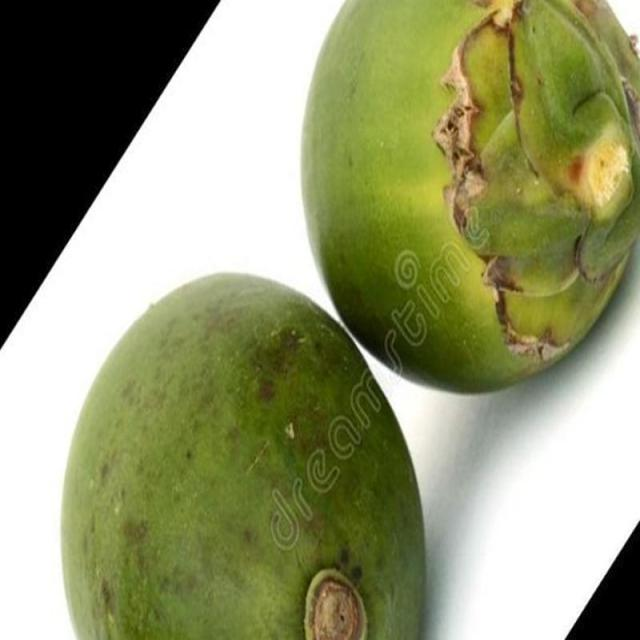good: (299, 0, 639, 398), (59, 272, 427, 639)
